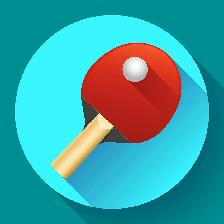WhiteBall: (122, 57, 148, 82)
